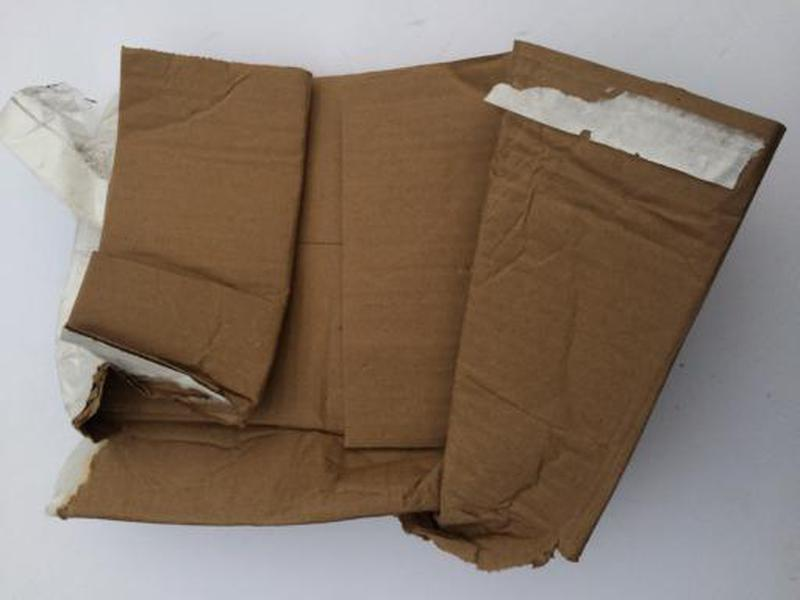cardboard: (1, 31, 791, 574)
